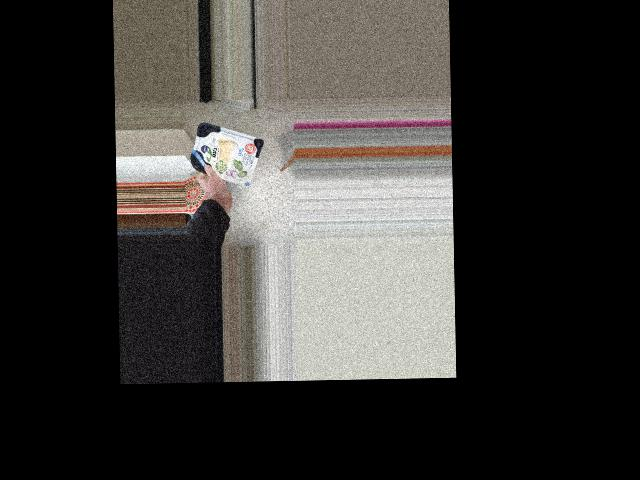cheese: (189, 120, 264, 186)
